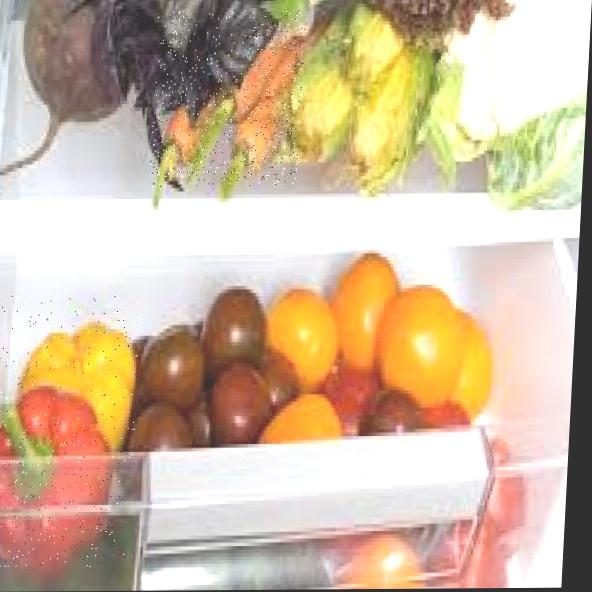carrots: (149, 10, 307, 187)
peppers: (0, 295, 142, 568)
